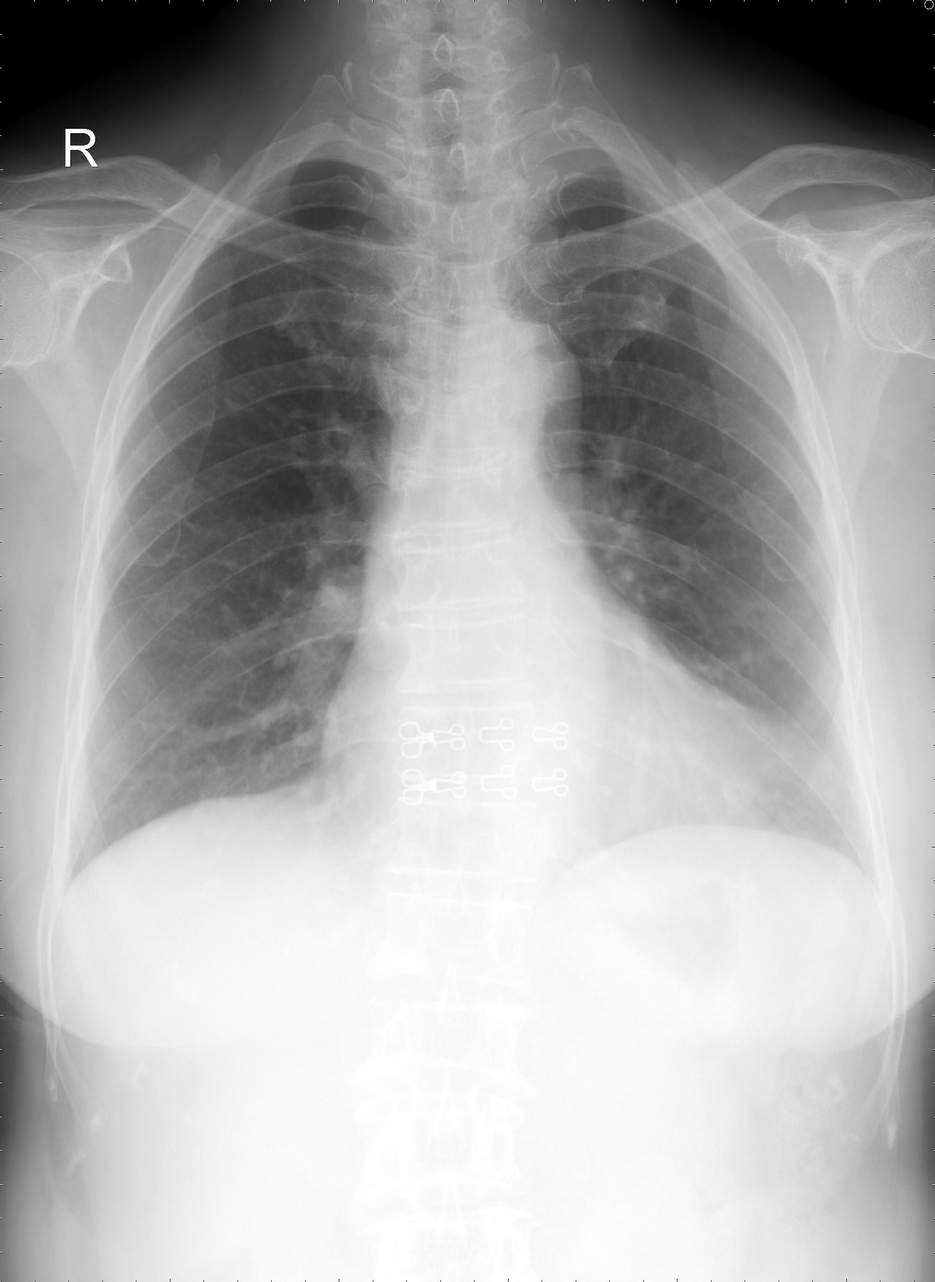Cardiomegaly: (316, 688, 780, 829)
